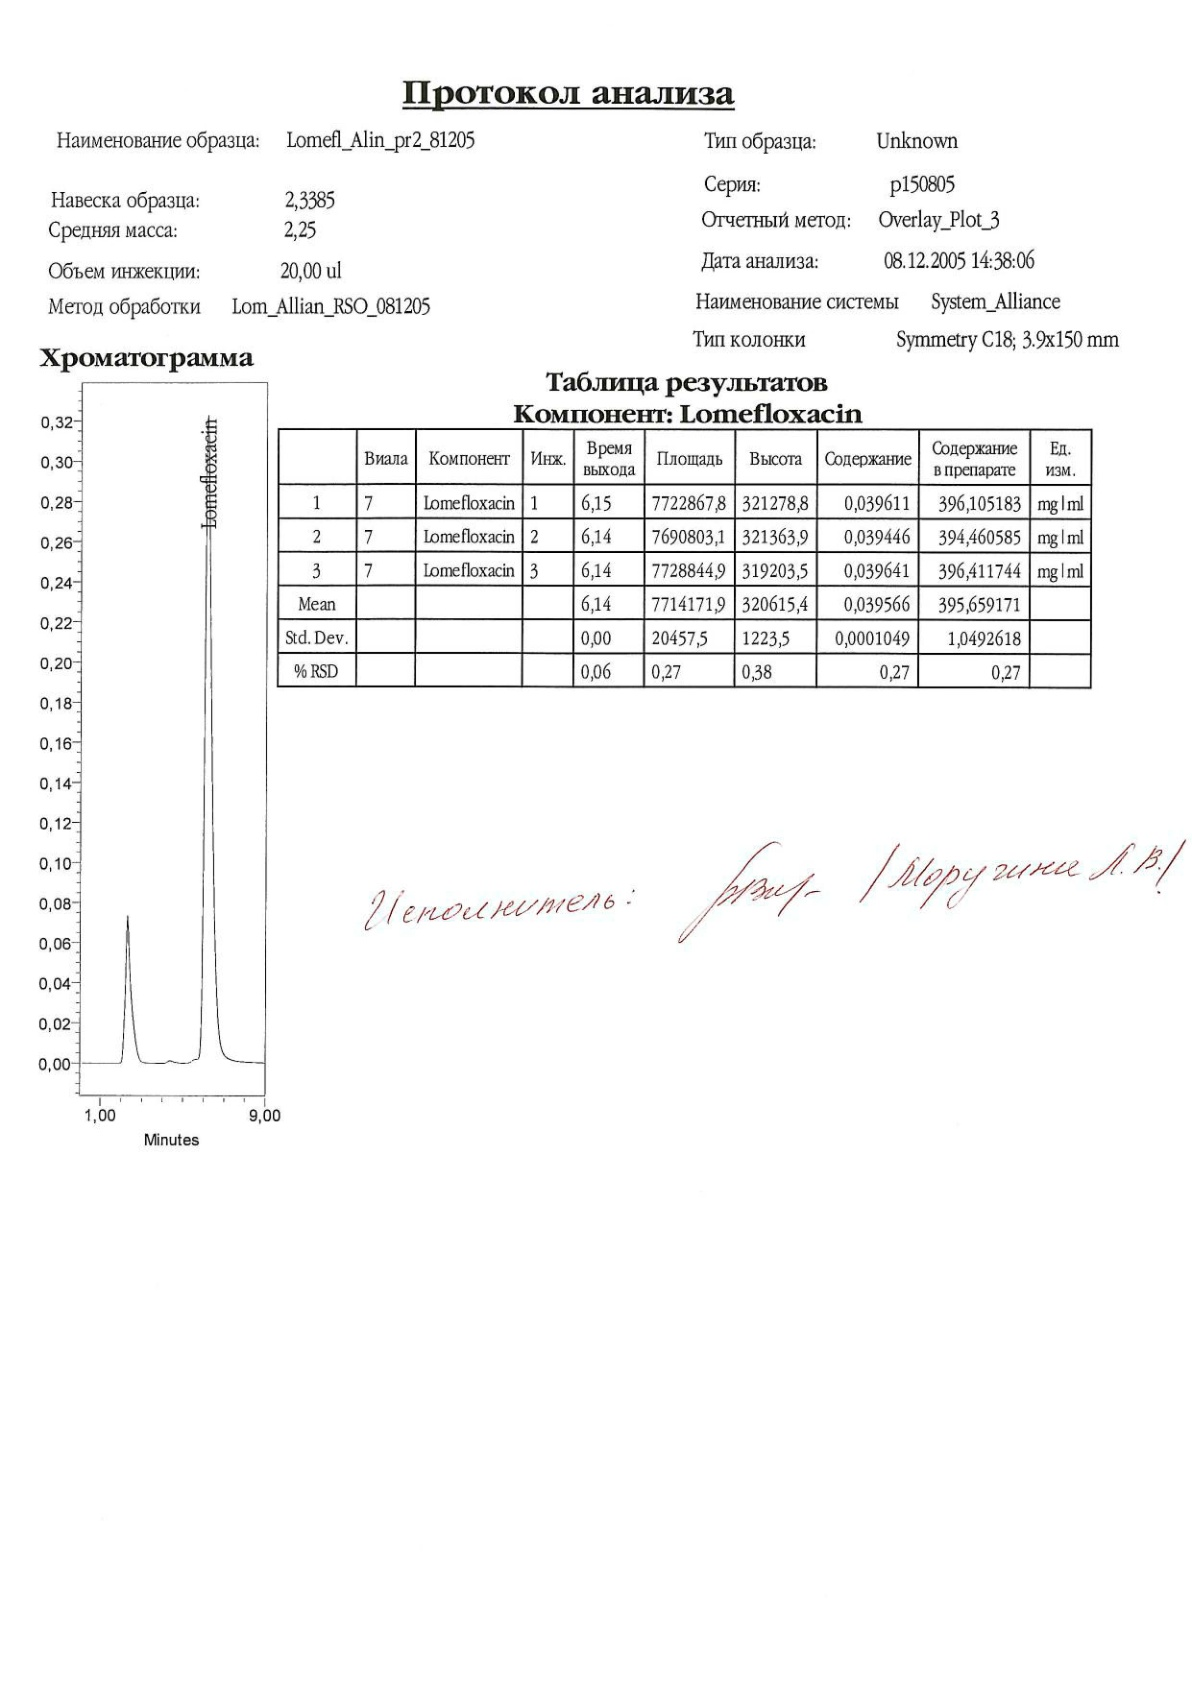full_lined: (275, 426, 1093, 690)
nolines: (43, 122, 1124, 353)
